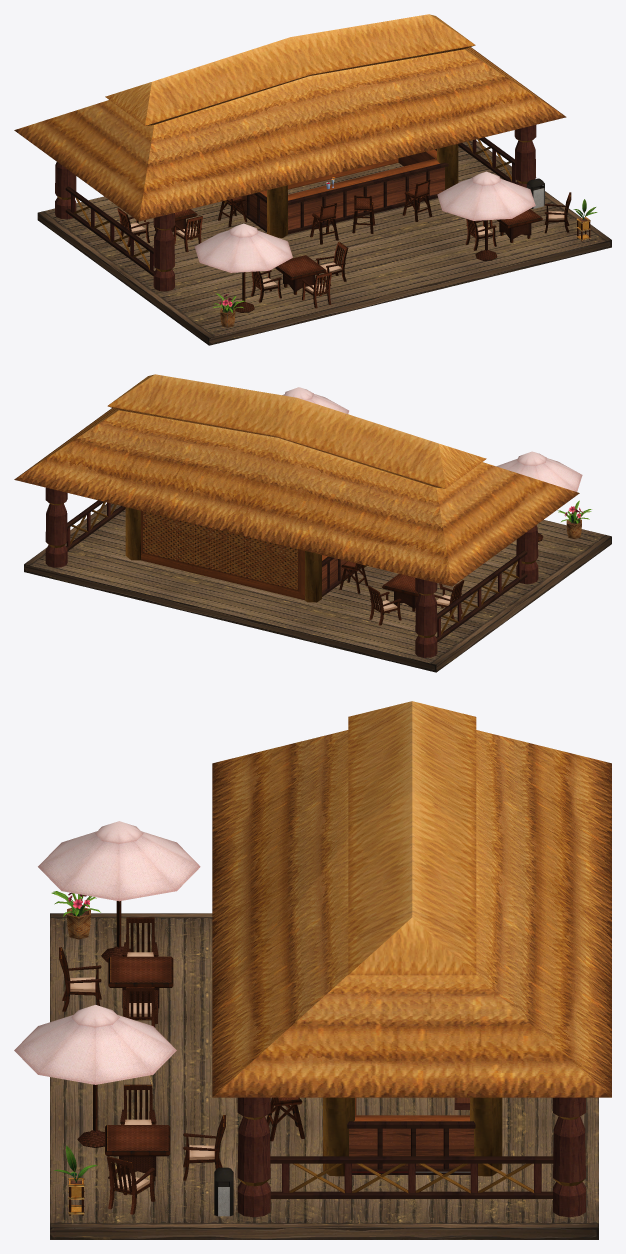
Rendered from SC_HDjianzhu02.FBX.
The picture shows the model from 3 angles, top to bottom: view 1: azimuth 30°, elevation 25°; view 2: azimuth 150°, elevation 25°; view 3: azimuth 270°, elevation 25°; orthographic projection. The views are drawn at different scales.
Parts seen in each view (by area): view 1: SC_HDjianzhu02; view 2: SC_HDjianzhu02; view 3: SC_HDjianzhu02.
Boxes of the visible parts, <box> form: SC_HDjianzhu02: <box>14,14,611,345</box>; SC_HDjianzhu02: <box>14,374,611,672</box>; SC_HDjianzhu02: <box>14,701,611,1239</box>.
Size of the model in its own units: 692 by 276 by 524.
